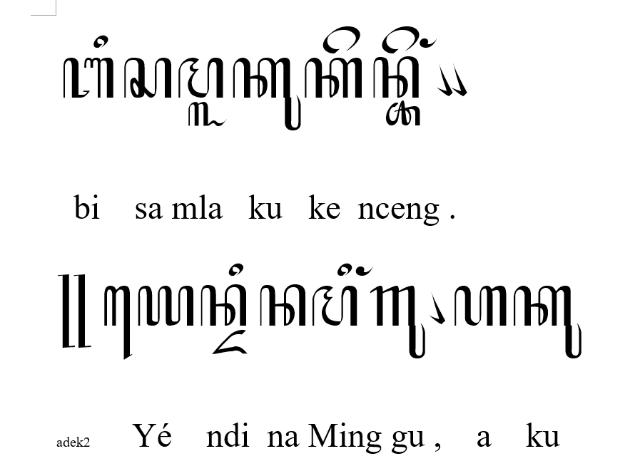_c: (385, 100, 421, 126)
_d: (211, 330, 247, 354)
_l: (188, 102, 228, 128)
adeg2: (57, 274, 91, 350)
b: (63, 56, 114, 98)
e: (380, 26, 420, 54), (323, 26, 361, 54)
e1: (103, 285, 133, 361)
gu: (368, 284, 426, 360)
h: (454, 286, 508, 326)
i: (228, 262, 244, 278), (338, 262, 352, 278), (94, 34, 108, 47)
k: (304, 56, 364, 100)
kom: (450, 65, 468, 97), (427, 292, 445, 324), (437, 65, 453, 97)
ku: (232, 57, 302, 131), (512, 286, 582, 360)
m: (312, 285, 358, 327), (178, 58, 226, 98)
n: (200, 284, 248, 328), (260, 284, 306, 328), (372, 56, 418, 98)
ng: (419, 38, 437, 48), (356, 266, 374, 276)
s: (123, 56, 173, 99)
y: (138, 286, 194, 326)
